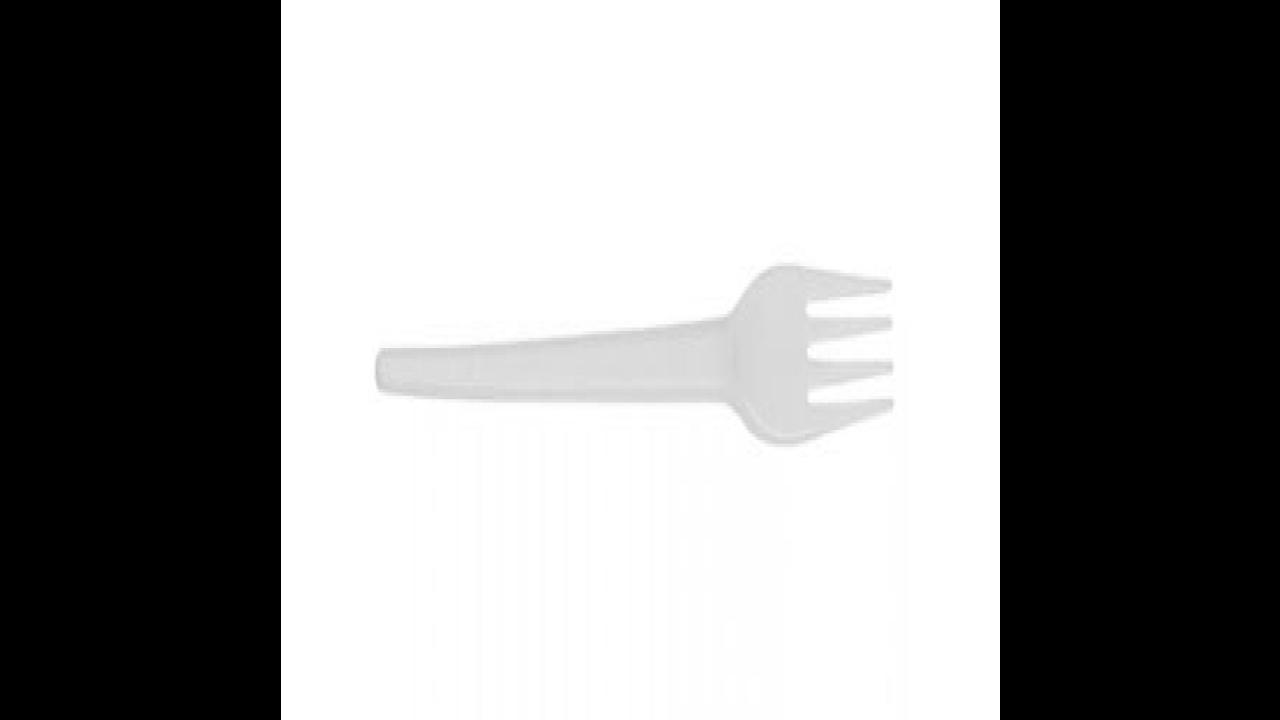fork: (375, 259, 895, 447)
